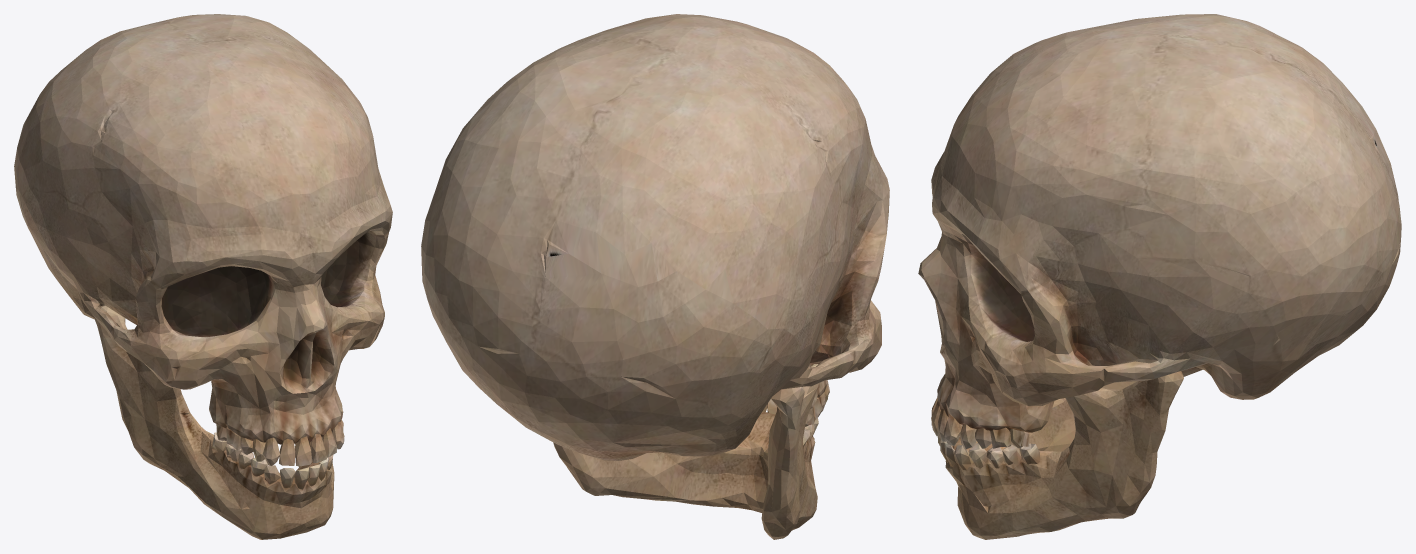
Rendered from skull.glb.
3 renders of one model, left to right at view 1: azimuth 30°, elevation 25°; view 2: azimuth 150°, elevation 25°; view 3: azimuth 270°, elevation 25°, orthographic. The views are drawn at different scales.
Visible parts, largest first — view 1: CANEO_decimated_100K; view 2: CANEO_decimated_100K; view 3: CANEO_decimated_100K.
Boxes of the visible parts, x1=… form: CANEO_decimated_100K: x1=14, y1=14, x2=392, y2=539; CANEO_decimated_100K: x1=421, y1=14, x2=889, y2=539; CANEO_decimated_100K: x1=918, y1=14, x2=1401, y2=539.
Bounding box in the file's own units: 138 × 201 × 181.
Materials: 1 (1 with a texture image).
